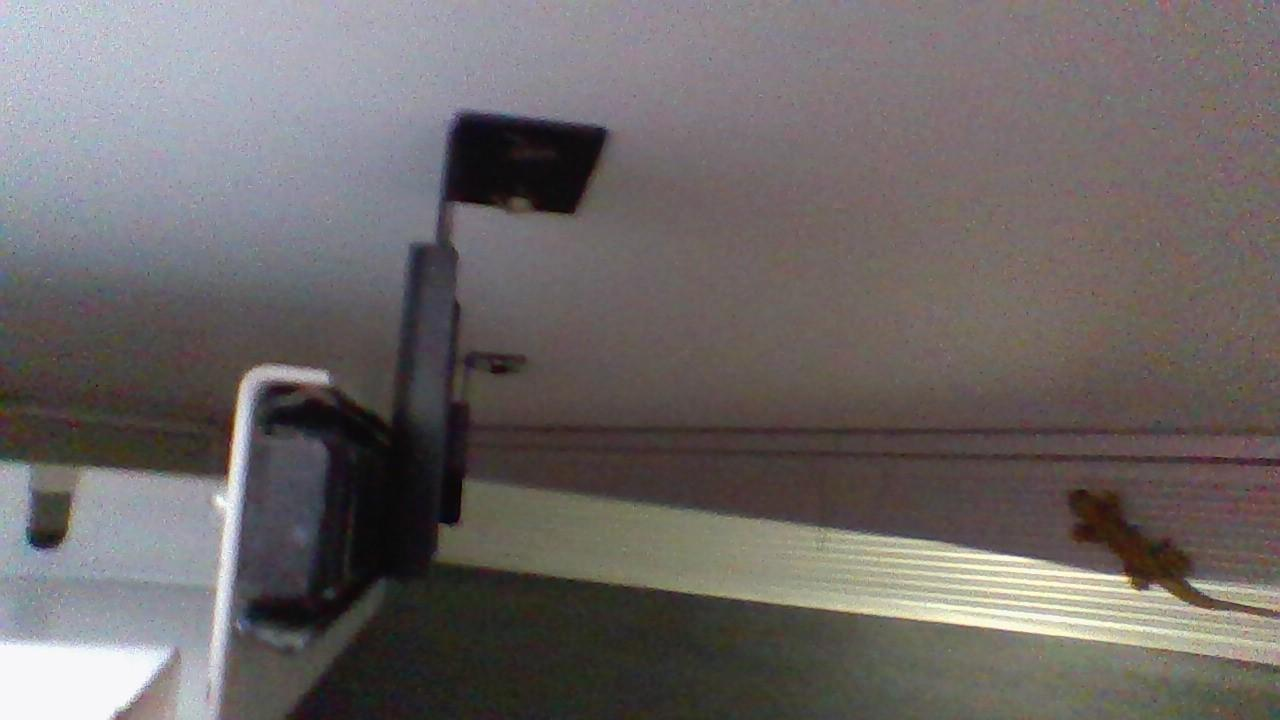lizard: (1055, 467, 1280, 638)
